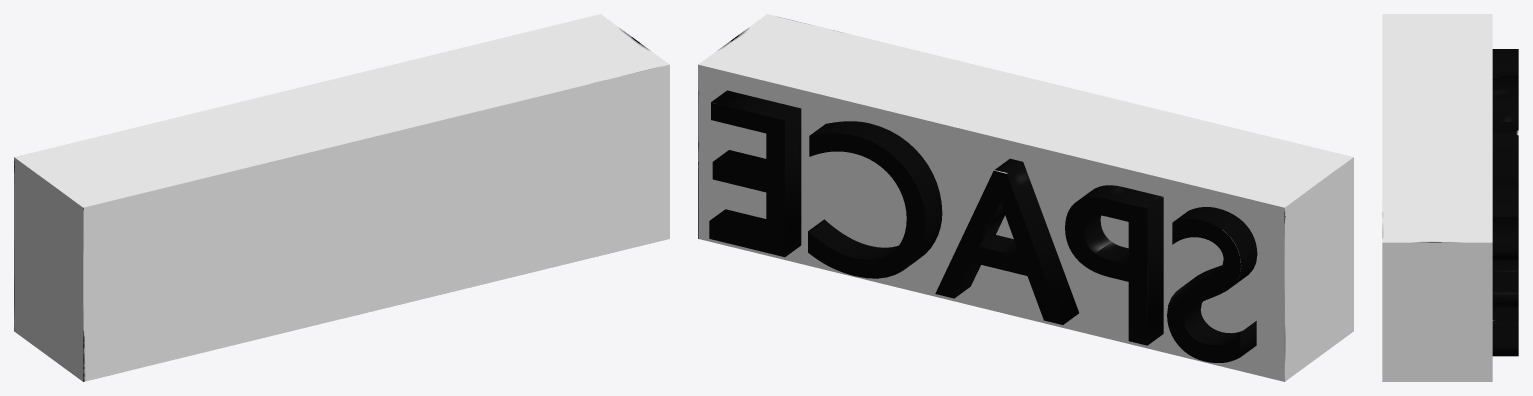
Rendered from space.obj.
The picture shows the model from 3 angles, left to right: view 1: azimuth 30°, elevation 25°; view 2: azimuth 150°, elevation 25°; view 3: azimuth 270°, elevation 25°; orthographic projection. The views are drawn at different scales.
Parts seen in each view (by area): view 1: テキスト_テキスト.001; view 2: テキスト_テキスト.001; view 3: テキスト_テキスト.001.
Boxes of the visible parts, x1,y1,x2,y2 form: テキスト_テキスト.001: (14, 14, 669, 381); テキスト_テキスト.001: (698, 14, 1353, 381); テキスト_テキスト.001: (1382, 14, 1518, 381).
Size of the model in its own units: 3.06 by 0.8684 by 0.7721.
Materials: 1 (1 with a texture image).
